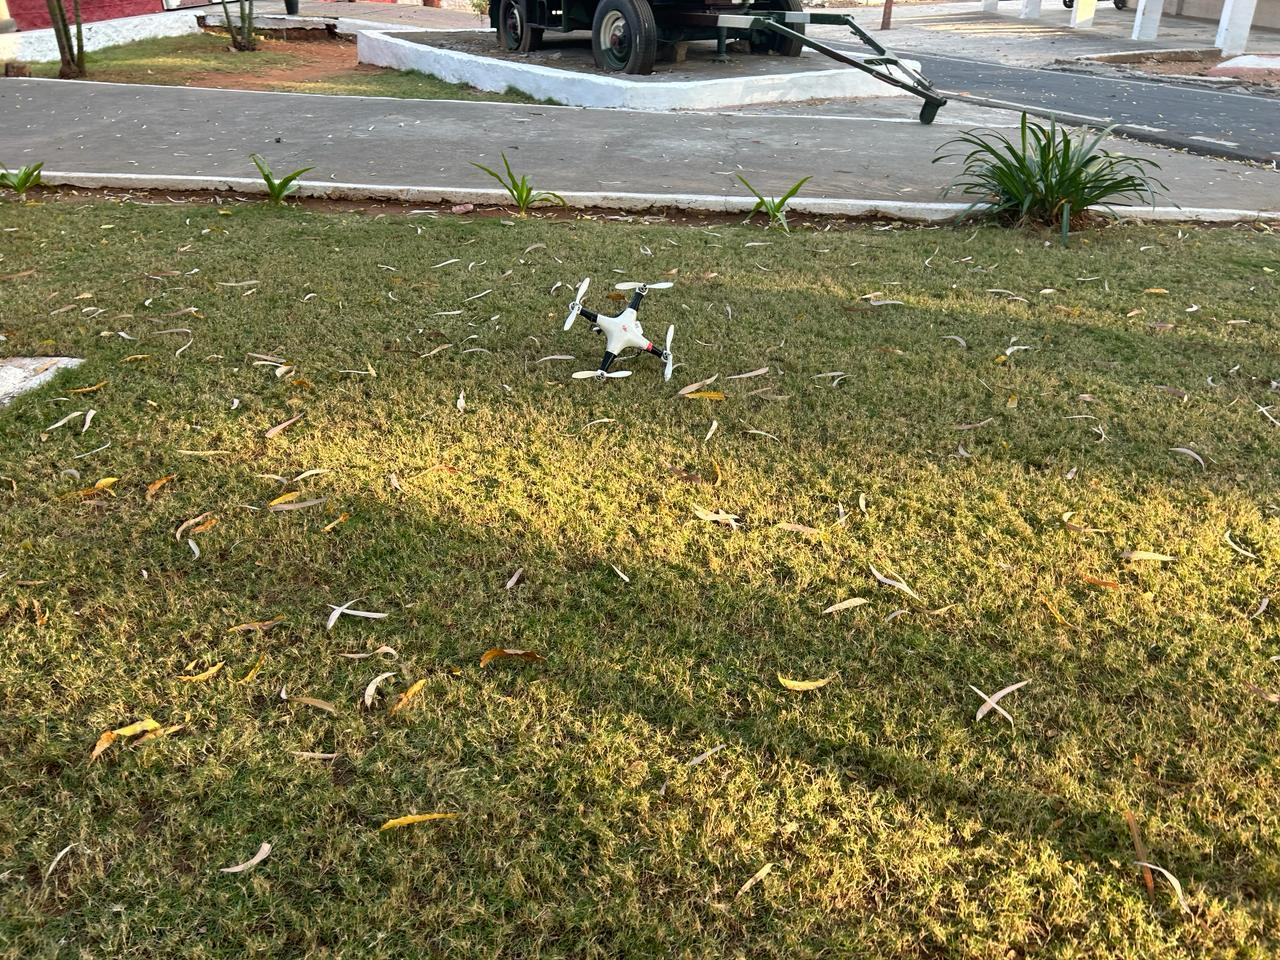drone: (532, 272, 737, 412)
